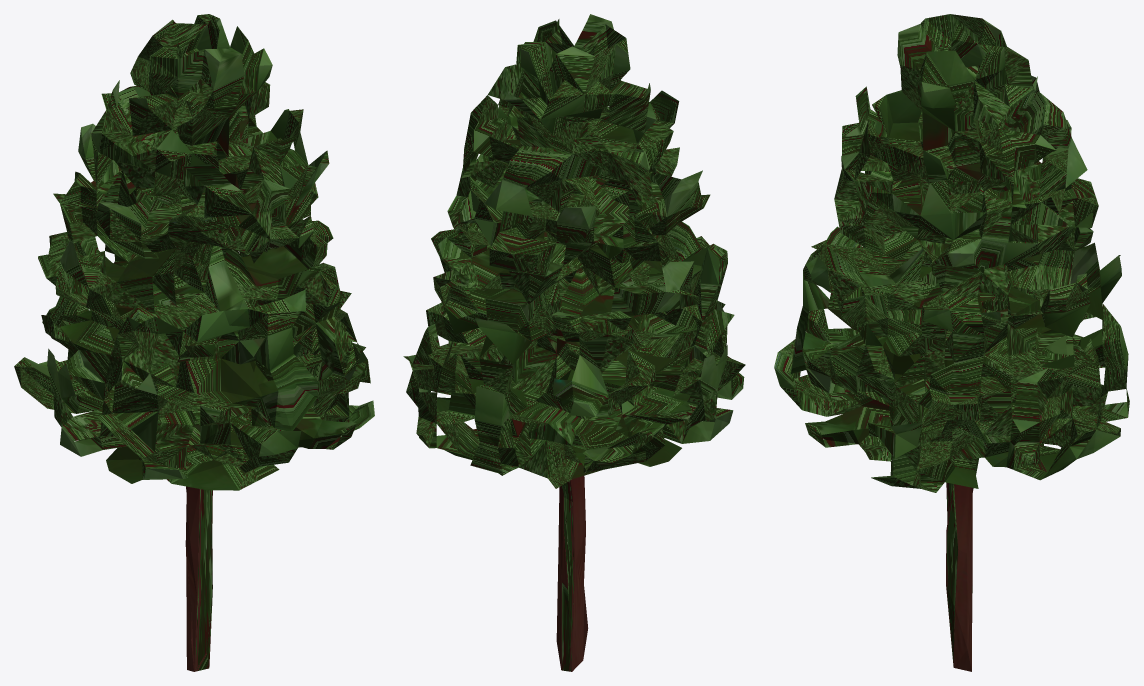
File: pine.glb
The picture shows the model from 3 angles, left to right: view 1: azimuth 30°, elevation 25°; view 2: azimuth 150°, elevation 25°; view 3: azimuth 270°, elevation 25°; orthographic projection.
Parts seen in each view (by area): view 1: textured_mesh.obj; view 2: textured_mesh.obj; view 3: textured_mesh.obj.
Part boxes in pixels (left/top/right/bottom): textured_mesh.obj: left=14, top=14, right=374, bottom=671; textured_mesh.obj: left=403, top=14, right=745, bottom=671; textured_mesh.obj: left=774, top=14, right=1129, bottom=671.
Size of the model in its own units: 0.4998 by 1.09 by 0.5398.
Materials: 1 (1 with a texture image).
